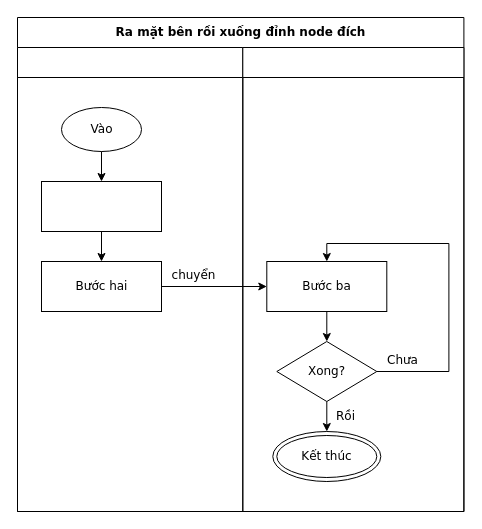
This 482x529 diagram has some shape labels left out. Each missing label, with the box of its shape:
Bước một: (40, 180, 162, 232)
Lane A: (16, 46, 243, 512)
Lane B: (242, 46, 464, 512)
